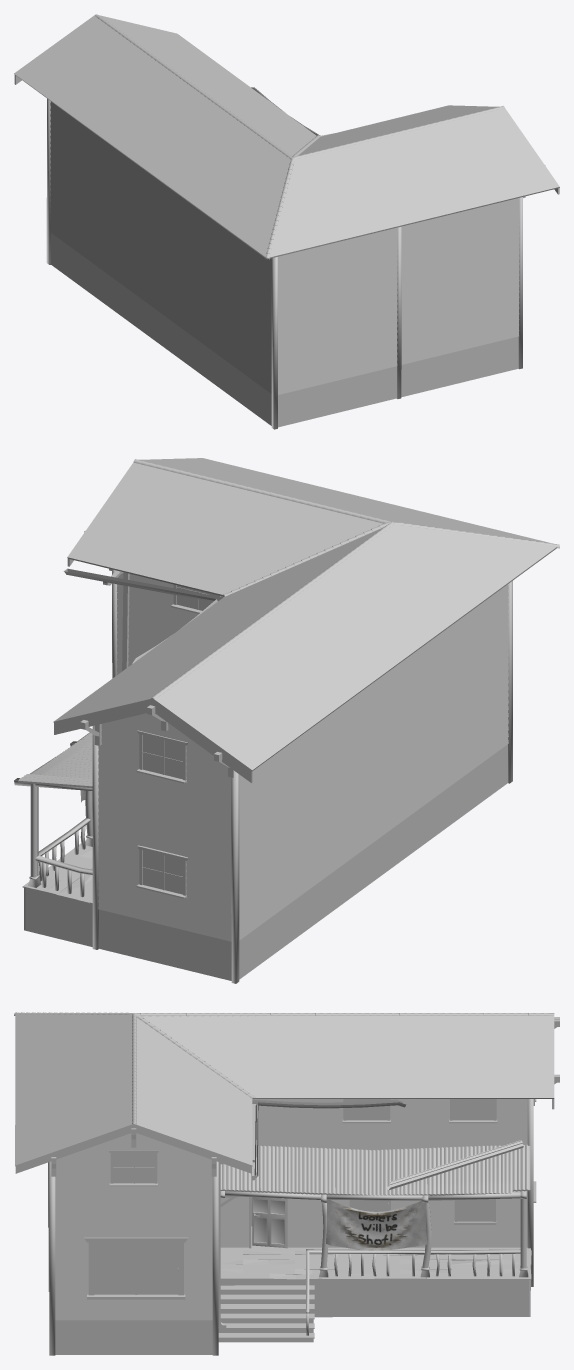
Rendered from casa1.fbx.
3 renders of one model, top to bottom at view 1: azimuth 30°, elevation 25°; view 2: azimuth 150°, elevation 25°; view 3: azimuth 270°, elevation 25°, orthographic. The views are drawn at different scales.
Parts seen in each view (by area): view 1: Roof.001, Cube.017, foundation.001, Cube.018, Cube.019, Cube.016, wood.102, Cylinder.006, wood.106, wood.101, wood.103, Cylinder.007; view 2: Roof.001, Cube.022, foundation.001, Cube.018, Cube.016, Cube.019, Cube.020, windows.002, wood.066, Cube.009, wood.101, frames.002 (+7 smaller); view 3: Roof.001, Cube.015, Cube.023, foundation.001, windows.002, Stairs.004, Stairs.003, windows.003, wood.066, frames.002, Stairs.005, Cube.009 (+11 smaller).
Boxes of the visible parts, bbox=[...] form: Roof.001: bbox=[14, 14, 559, 259]; Cube.017: bbox=[278, 198, 519, 394]; foundation.001: bbox=[51, 233, 518, 427]; Cube.018: bbox=[123, 155, 199, 340]; Cube.019: bbox=[50, 101, 124, 285]; Cube.016: bbox=[199, 210, 271, 393]; wood.102: bbox=[271, 257, 277, 429]; Cylinder.006: bbox=[95, 14, 293, 159]; wood.106: bbox=[397, 226, 401, 398]; wood.101: bbox=[46, 98, 50, 264]; wood.103: bbox=[518, 197, 522, 369]; Cylinder.007: bbox=[291, 106, 504, 159]; Roof.001: bbox=[18, 458, 557, 788]; Cube.022: bbox=[98, 713, 231, 941]; foundation.001: bbox=[24, 744, 507, 980]; Cube.018: bbox=[327, 649, 419, 875]; Cube.016: bbox=[418, 584, 508, 808]; Cube.019: bbox=[239, 716, 327, 940]; Cube.020: bbox=[116, 573, 223, 674]; windows.002: bbox=[142, 585, 217, 894]; wood.066: bbox=[28, 783, 92, 897]; Cube.009: bbox=[63, 568, 223, 671]; wood.101: bbox=[231, 771, 239, 983]; frames.002: bbox=[136, 584, 220, 898]; Roof.001: bbox=[15, 1013, 554, 1195]; Cube.015: bbox=[55, 1133, 212, 1320]; Cube.023: bbox=[220, 1099, 527, 1247]; foundation.001: bbox=[55, 1197, 530, 1354]; windows.002: bbox=[94, 1099, 493, 1294]; Stairs.004: bbox=[220, 1245, 531, 1280]; Stairs.003: bbox=[218, 1285, 314, 1342]; windows.003: bbox=[326, 1200, 427, 1250]; wood.066: bbox=[306, 1199, 528, 1335]; frames.002: bbox=[84, 1099, 536, 1299]; Stairs.005: bbox=[220, 1249, 531, 1274]; Cube.009: bbox=[218, 1099, 523, 1328].
Size of the model in its own units: 1075 by 789 by 1603.
